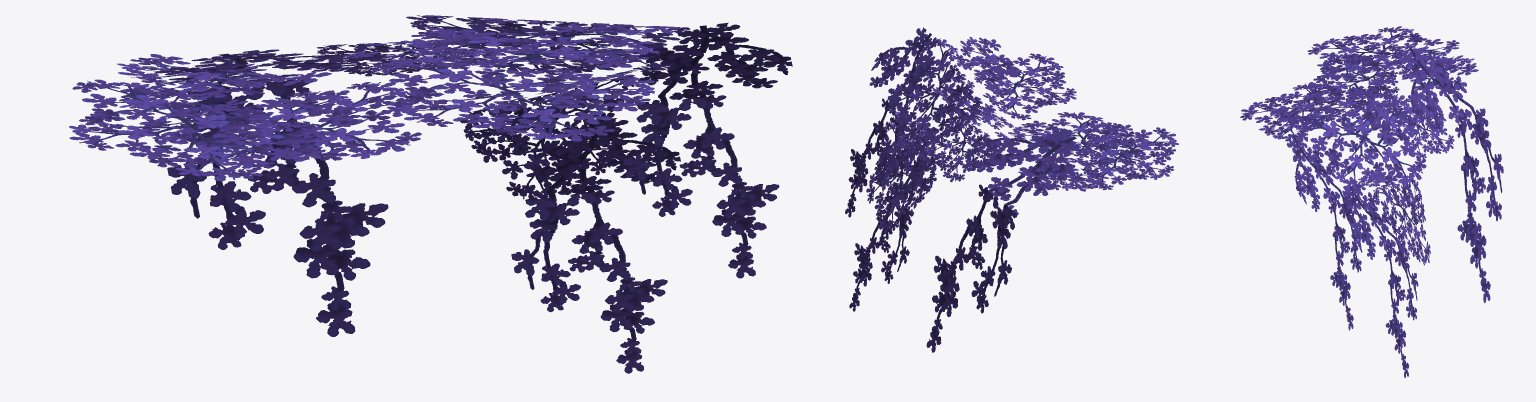
The model's file is ivy4.fbx.
The picture shows the model from 3 angles, left to right: view 1: azimuth 30°, elevation 25°; view 2: azimuth 150°, elevation 25°; view 3: azimuth 270°, elevation 25°; orthographic projection. The views are drawn at different scales.
Parts seen in each view (by area): view 1: IVY4; view 2: IVY4; view 3: IVY4.
Part boxes in pixels (box(x1,y1,x2,y2)): IVY4: box(69, 15, 792, 373); IVY4: box(845, 27, 1178, 352); IVY4: box(1240, 26, 1503, 377).
Bounding box in the file's own units: 121 × 72.64 × 81.8.
